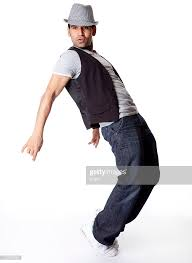Indian_Male: (67, 18, 92, 49)
